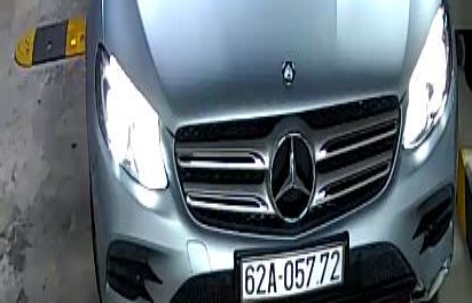plate: (237, 245, 349, 299)
